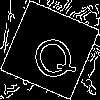Q: (25, 25, 79, 85)
